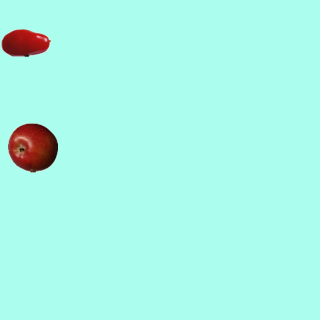Apple Braeburn: (7, 122, 57, 172)
Tomato 2: (0, 17, 50, 67)
